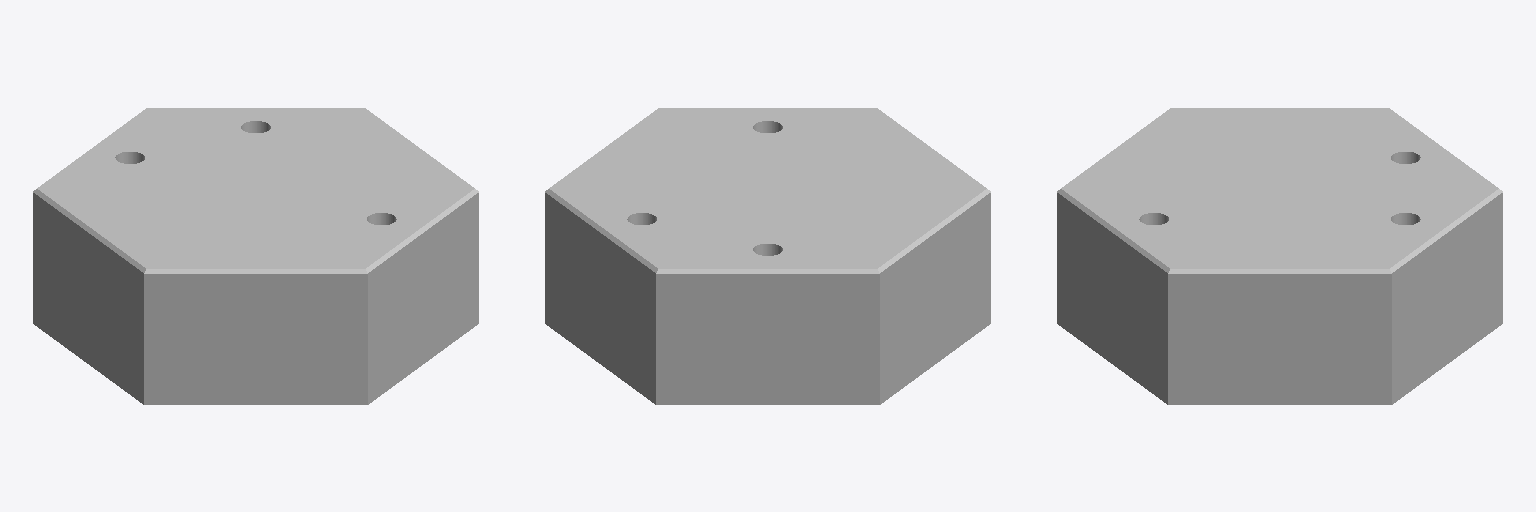
The model's file is lvl1D.obj.
The picture shows the model from 3 angles: view 1: azimuth 30°, elevation 25°; view 2: azimuth 150°, elevation 25°; view 3: azimuth 270°, elevation 25°; orthographic projection.
Parts seen in each view (by area): view 1: Lvl1D-3_(Mono-NoMags); view 2: Lvl1D-3_(Mono-NoMags); view 3: Lvl1D-3_(Mono-NoMags).
Boxes of the visible parts, x1,y1,x2,y2 form: Lvl1D-3_(Mono-NoMags): [33, 108, 478, 404]; Lvl1D-3_(Mono-NoMags): [545, 108, 990, 404]; Lvl1D-3_(Mono-NoMags): [1057, 108, 1502, 404].
Bounding box in the file's own units: 3.13 × 1.21 × 3.62.